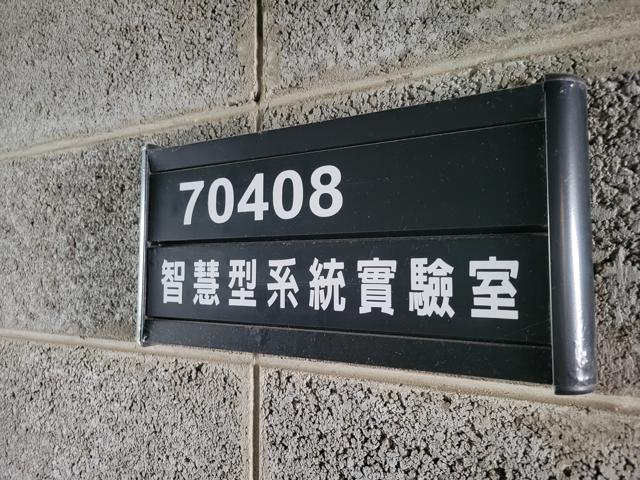doorplate: (122, 68, 602, 402)
